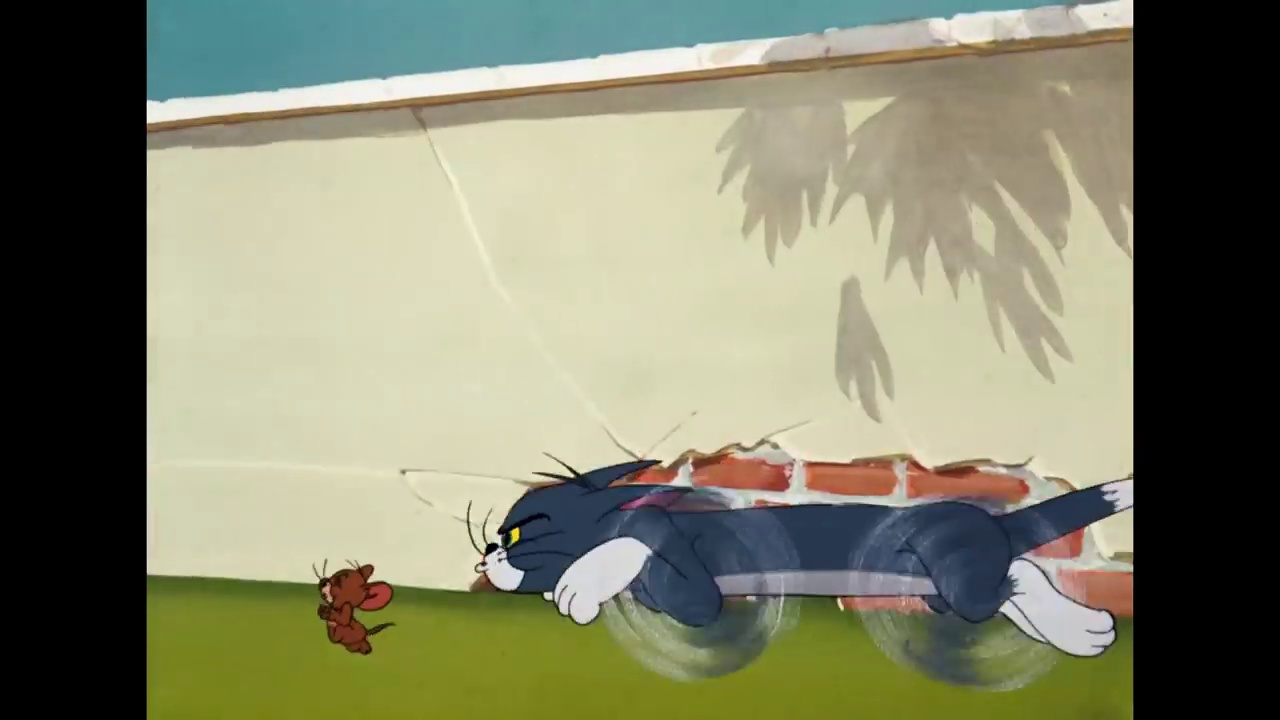tom: (462, 453, 685, 610)
